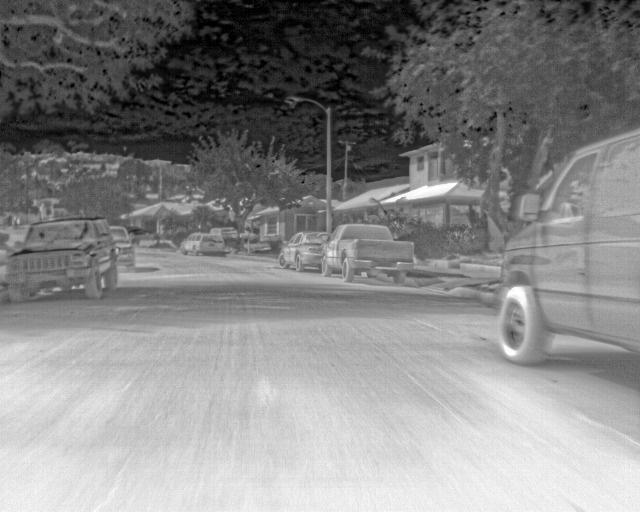car: (496, 126, 639, 370), (5, 218, 119, 300), (320, 222, 415, 285), (276, 230, 330, 271), (109, 223, 137, 274), (177, 232, 225, 256)
